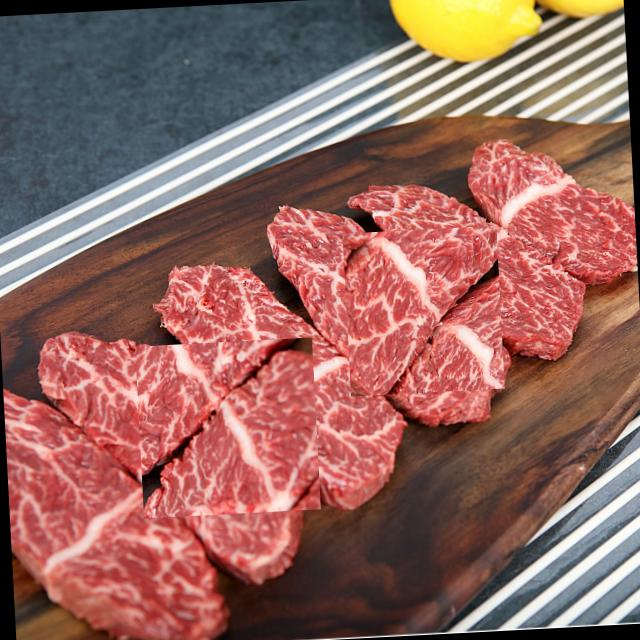beef: (137, 336, 320, 520), (340, 228, 508, 394)
